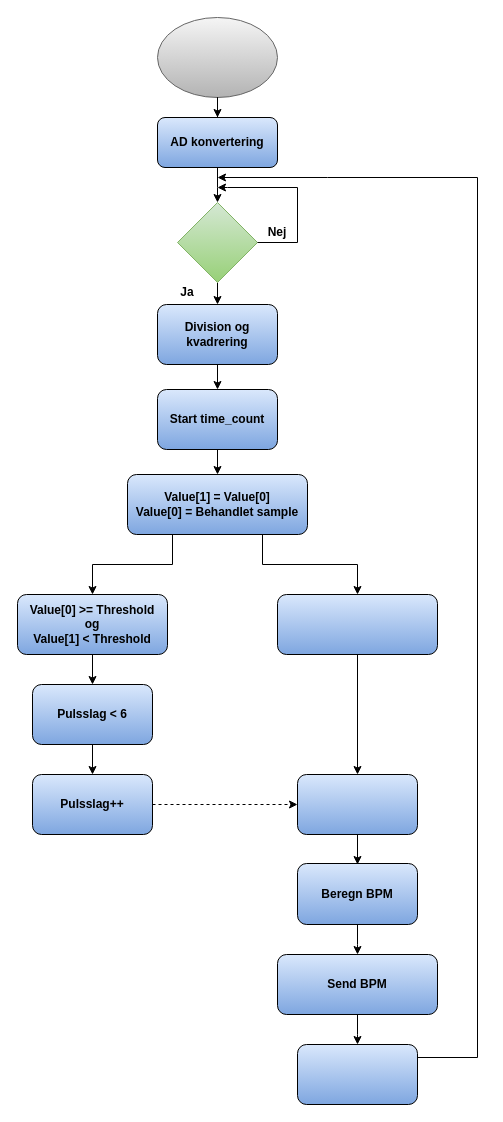
Some shapes in this 503 by 1122 pixel diagram are drawn without their labels. Here are the shapes that lost their labels. From the top down, the box of each, then its label:
(156, 16, 278, 98): Data fra pulssensor
(176, 202, 258, 282): Er data klar?
(276, 594, 438, 654): Value[0] <= Threshold og Value[1] > Threshold
(296, 774, 418, 834): Pulsslag > 4
(296, 1044, 418, 1104): Nulstil variabler
